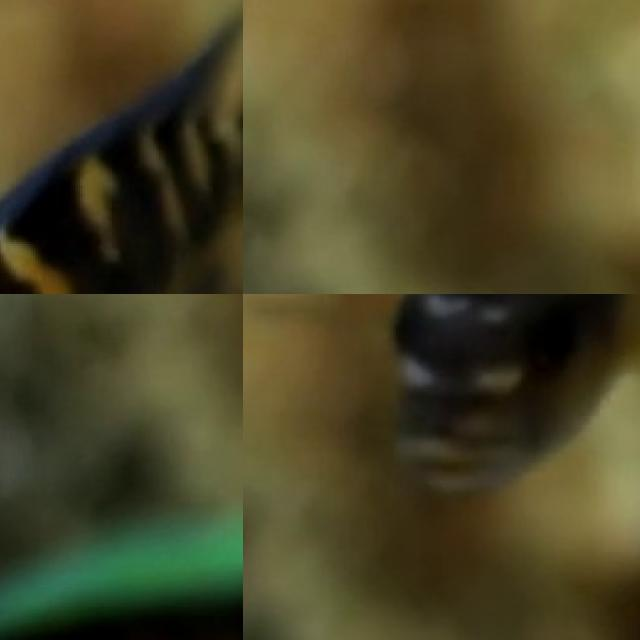fish: (0, 0, 243, 294), (351, 294, 640, 516)
